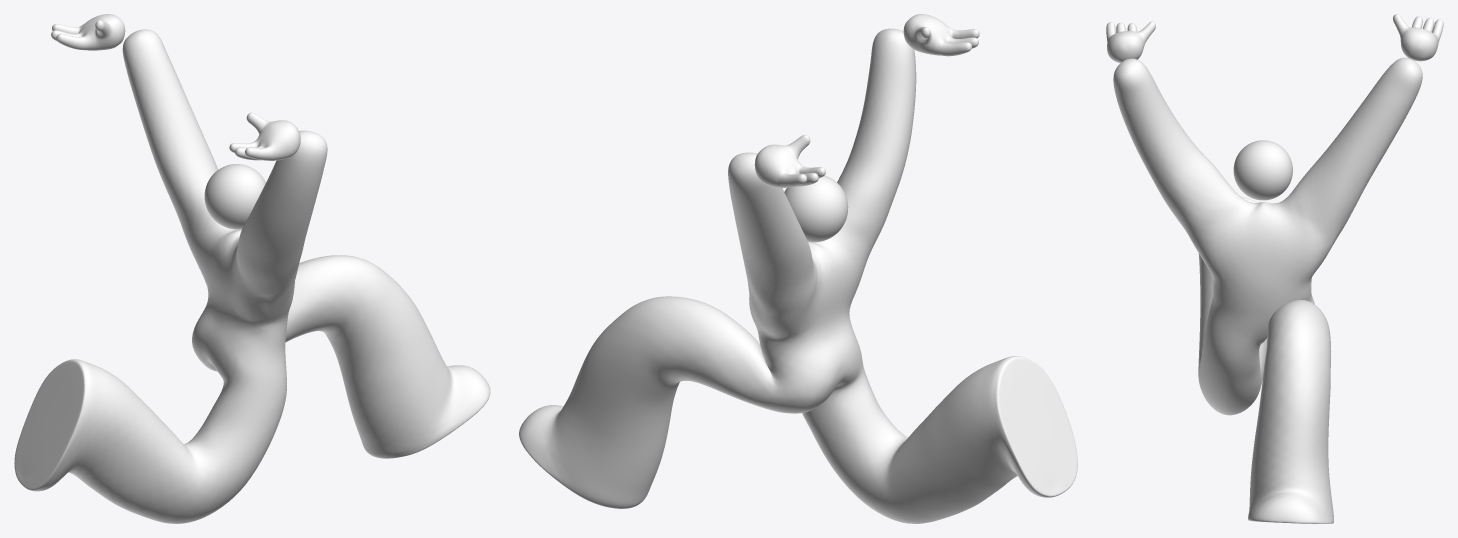
Rendered from K2-man4.gltf.
3 renders of one model, left to right at view 1: azimuth 30°, elevation 25°; view 2: azimuth 150°, elevation 25°; view 3: azimuth 270°, elevation 25°, orthographic. The views are drawn at different scales.
Parts seen in each view (by area): view 1: k2-man4; view 2: k2-man4; view 3: k2-man4.
Part boxes in pixels (x1=…): k2-man4: x1=14, y1=14, x2=490, y2=523; k2-man4: x1=519, y1=14, x2=1077, y2=523; k2-man4: x1=1106, y1=14, x2=1443, y2=523.
Bounding box in the file's own units: 36.64 × 32.14 × 23.95.
1 material, 1 textured.
